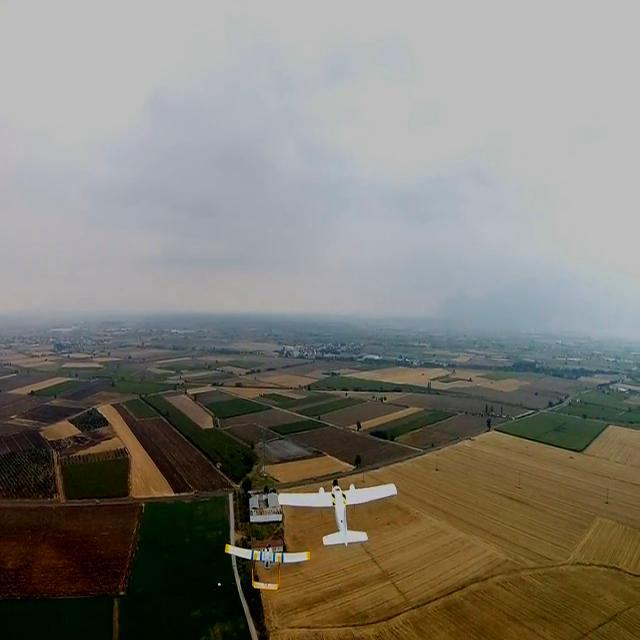iha: (275, 501, 406, 520), (253, 560, 288, 578)
